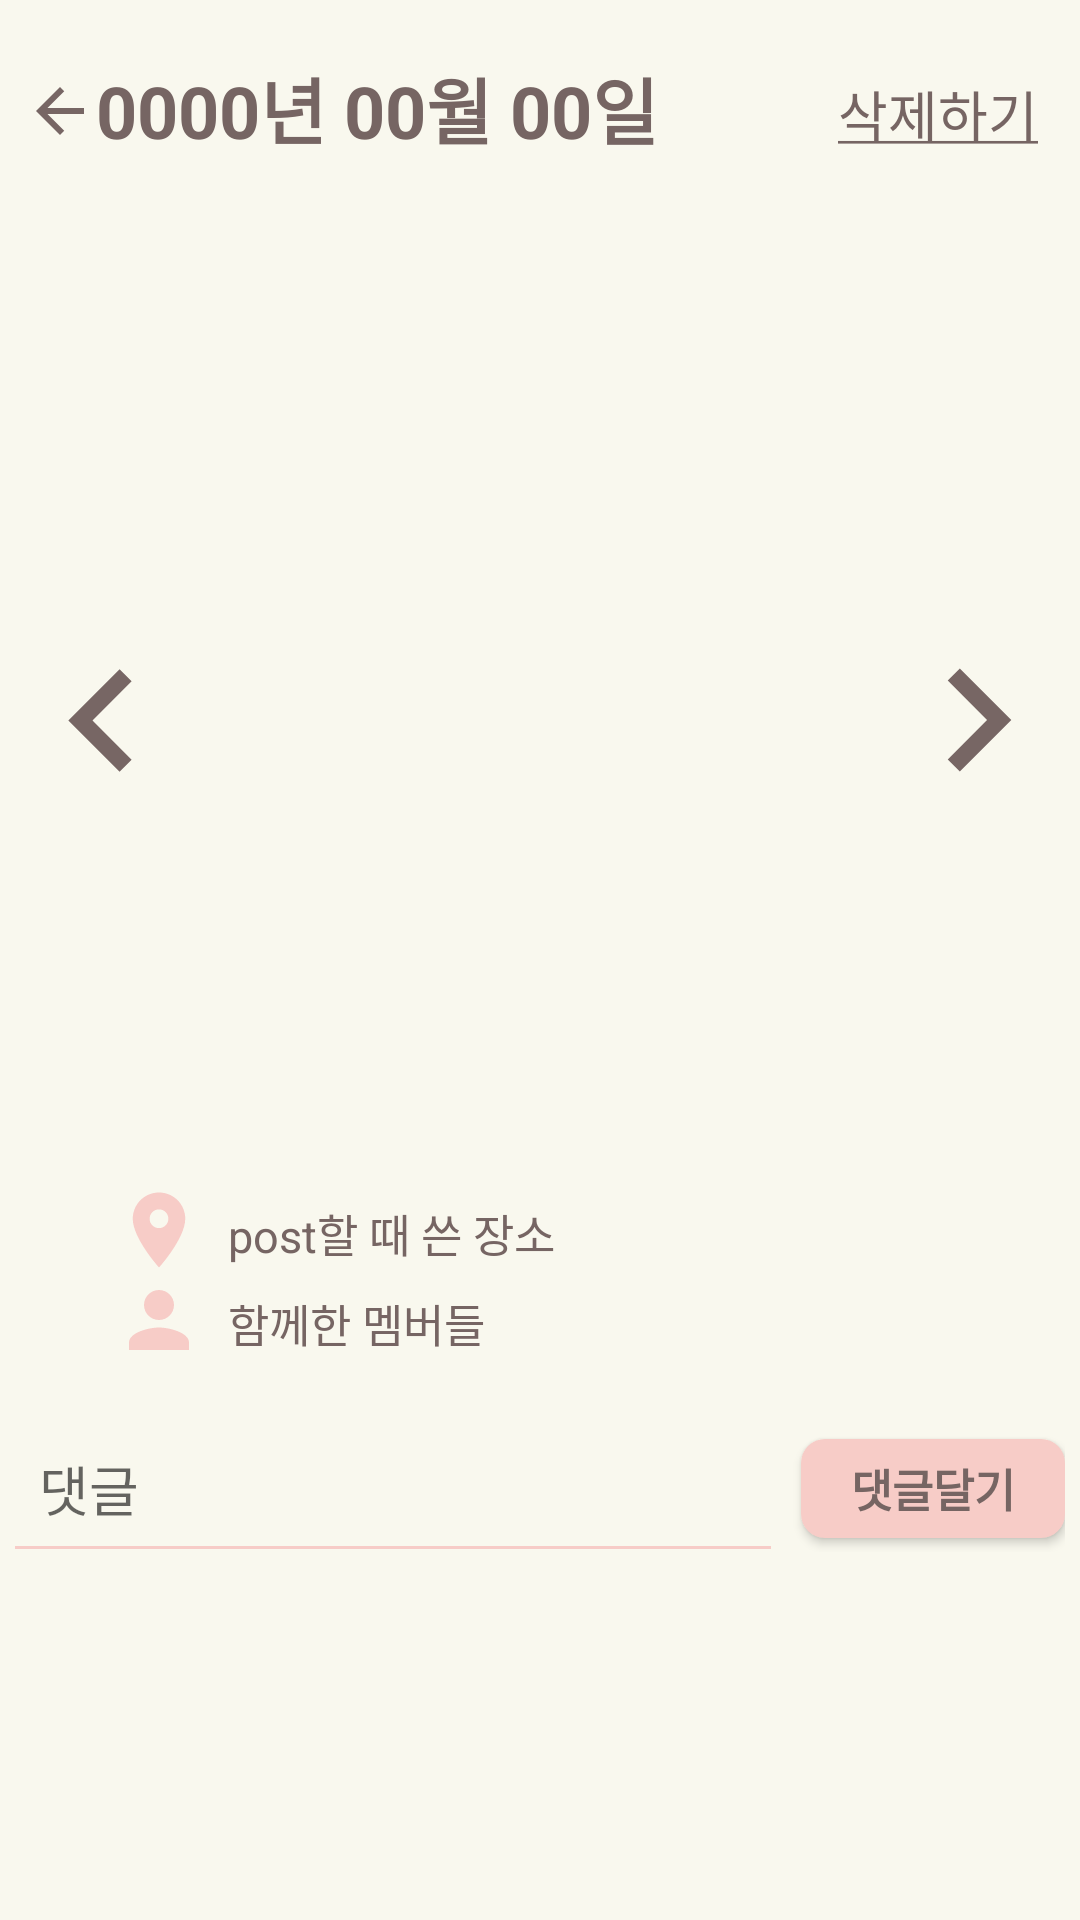

Named icons in this screenshot (1080*1920) and their bounding boxes, (x1, y1, x2, y2):
arrow back: (36, 87, 84, 135)
keyboard arrow left: (68, 669, 132, 772)
keyboard arrow right: (948, 668, 1011, 772)
location on: (133, 1193, 185, 1267)
person: (129, 1290, 189, 1350)
